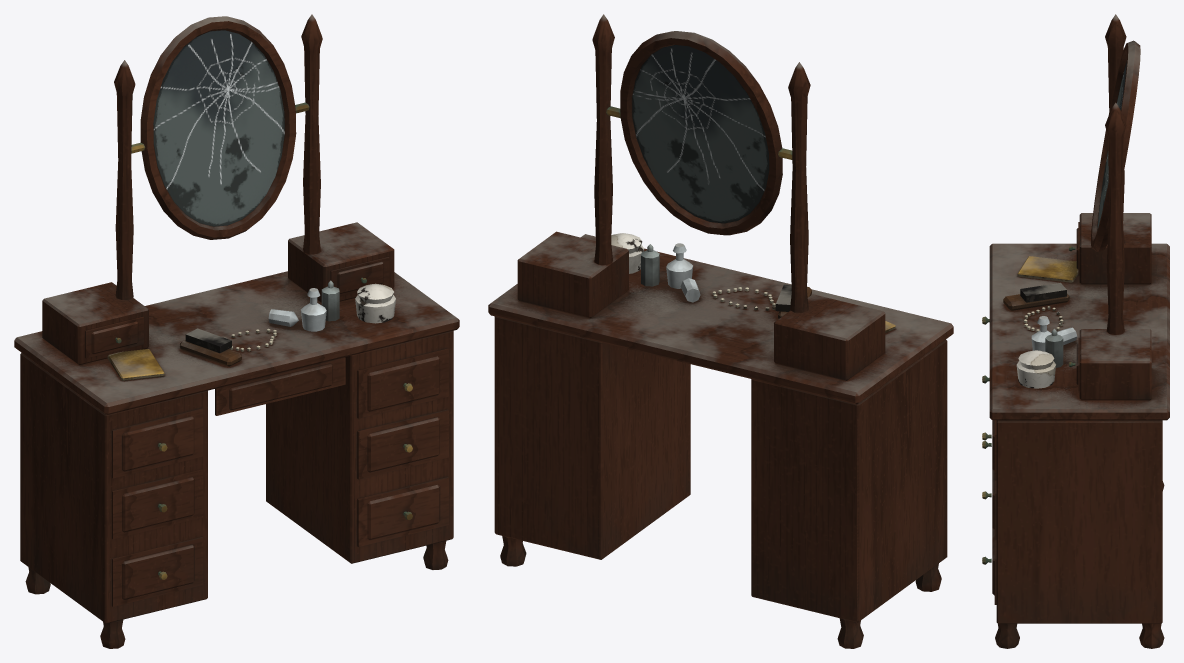
The model's file is VanityDresser.fbx.
3 views of the same model, side by side, from view 1: azimuth 30°, elevation 25°; view 2: azimuth 150°, elevation 25°; view 3: azimuth 270°, elevation 25° (orthographic). The views are drawn at different scales.
Parts seen in each view (by area): view 1: VanityDresser; view 2: VanityDresser; view 3: VanityDresser.
Boxes of the visible parts, left/top/right/bottom form: VanityDresser: left=14, top=14, right=459, bottom=648; VanityDresser: left=488, top=14, right=953, bottom=648; VanityDresser: left=982, top=14, right=1169, bottom=648.
Size of the model in its own units: 3.3 by 4.79 by 1.56.
1 material, 1 textured.
